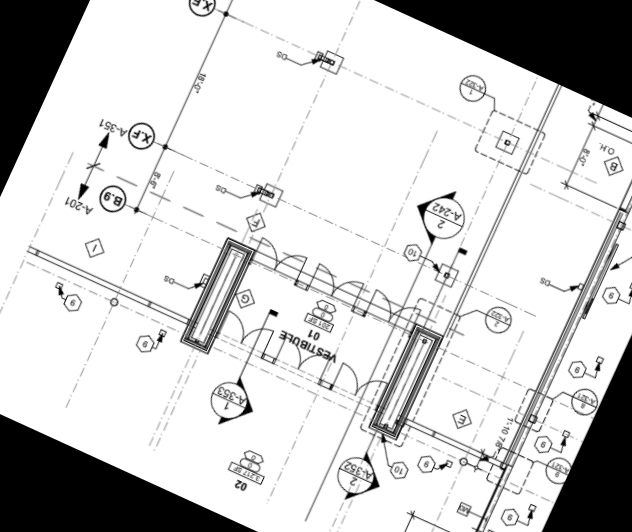double door: (328, 358, 392, 412), (272, 331, 335, 385), (360, 285, 423, 337), (304, 259, 368, 310), (215, 308, 278, 359), (247, 234, 310, 285)
